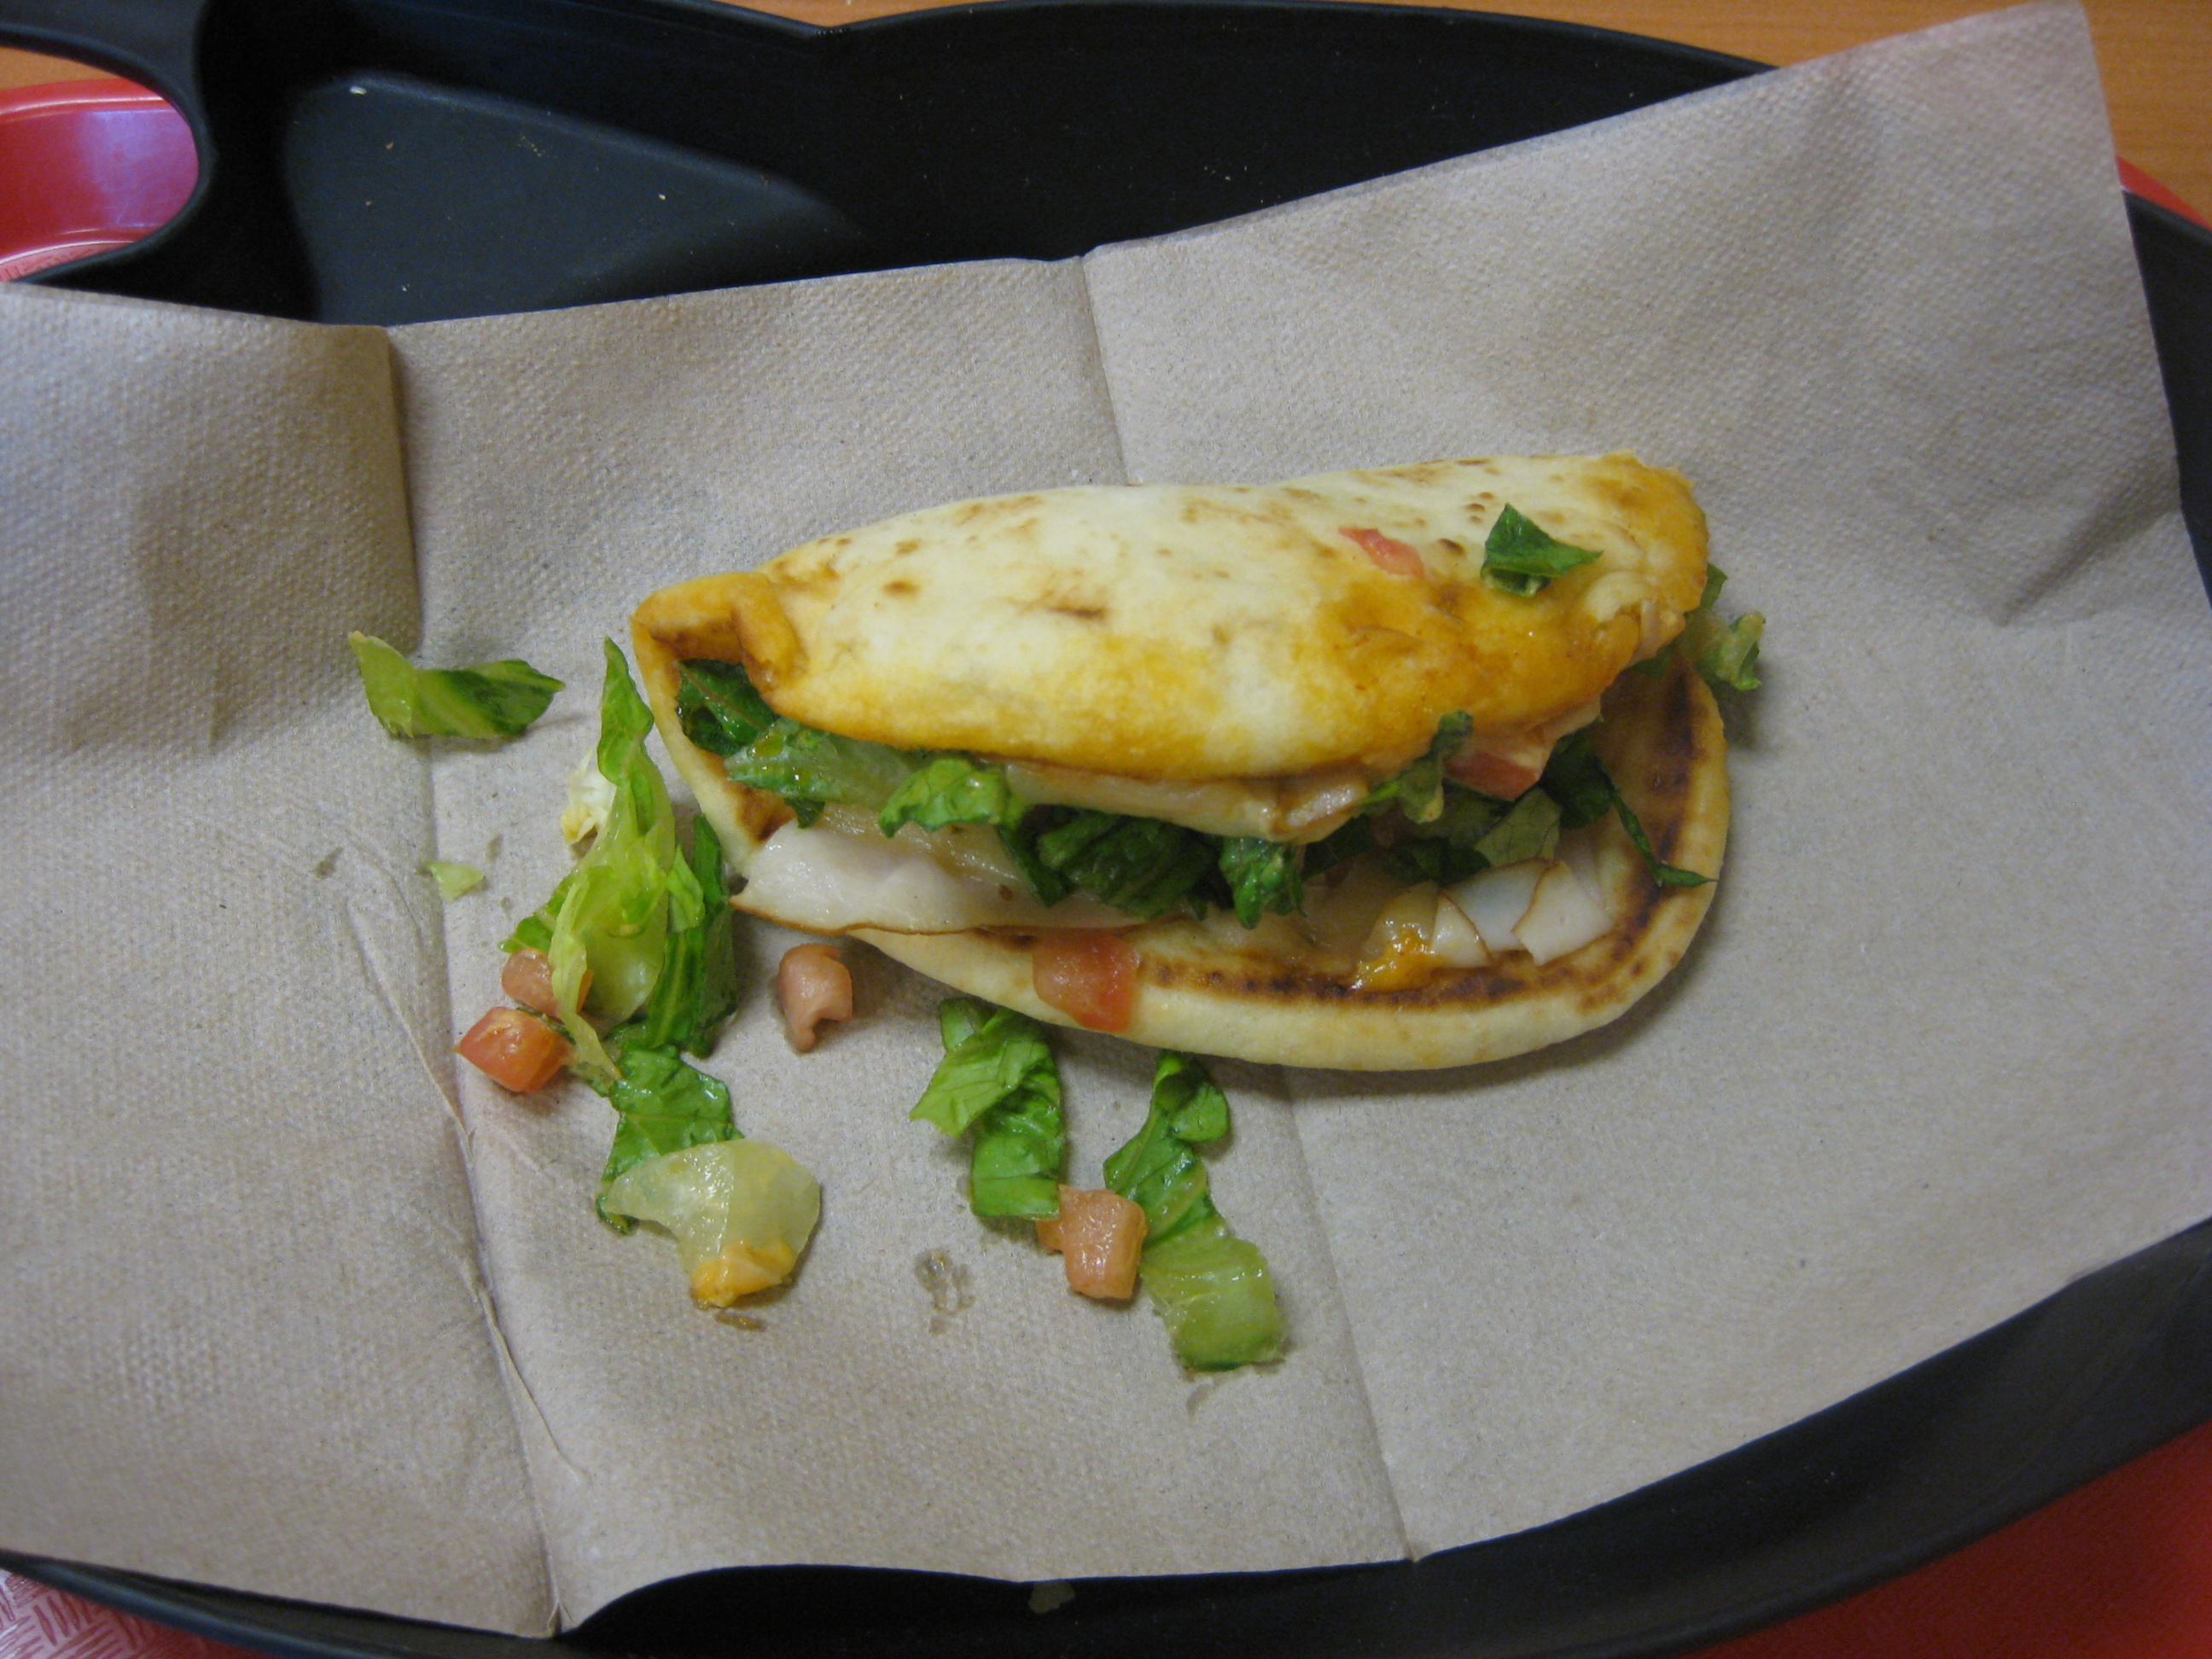taco: (550, 449, 1938, 1078)
